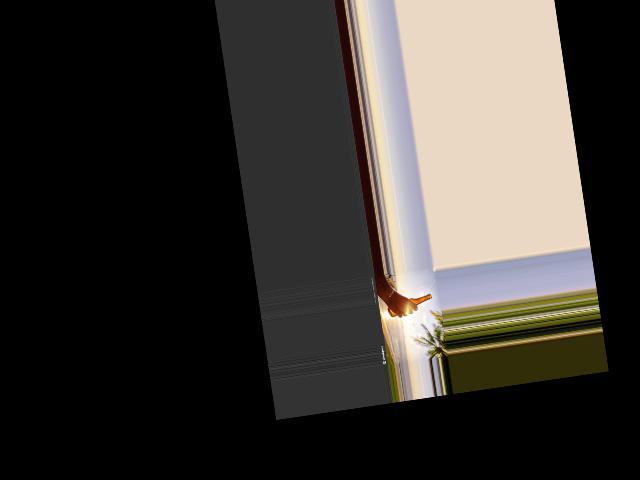beer: (386, 293, 433, 317)
